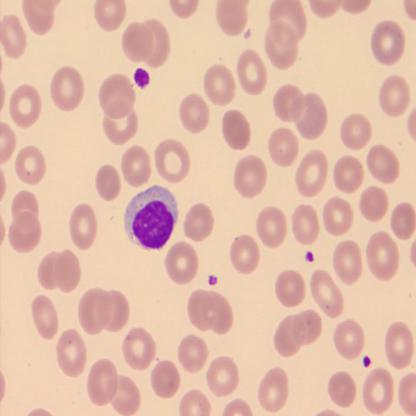Lymphocyte: (124, 185, 178, 251)
